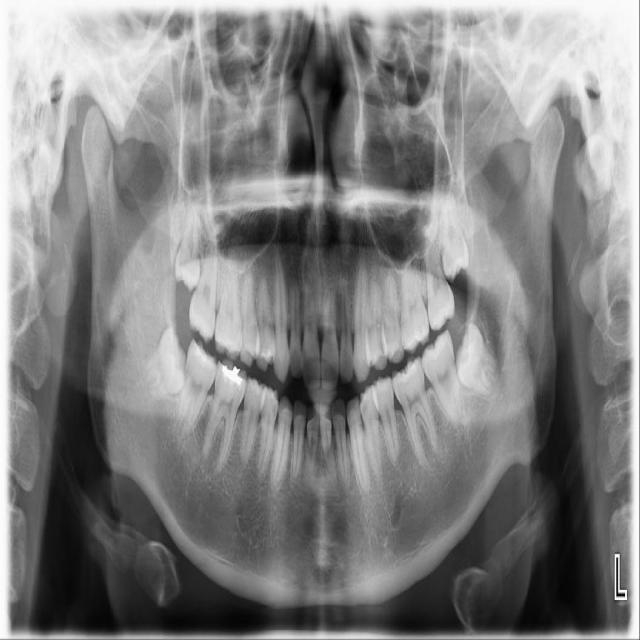Filling: (222, 365, 244, 387)
impacted tooth: (139, 329, 186, 398), (456, 320, 497, 396), (440, 194, 469, 281), (176, 194, 200, 288)
